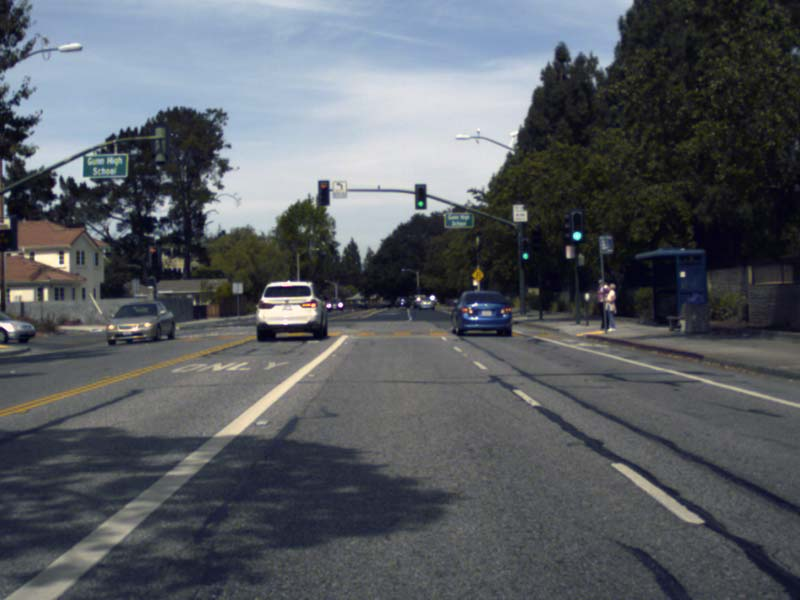Green: (571, 210, 582, 241), (415, 184, 426, 208), (520, 238, 529, 260)
Red: (148, 246, 159, 268), (318, 180, 328, 204)
